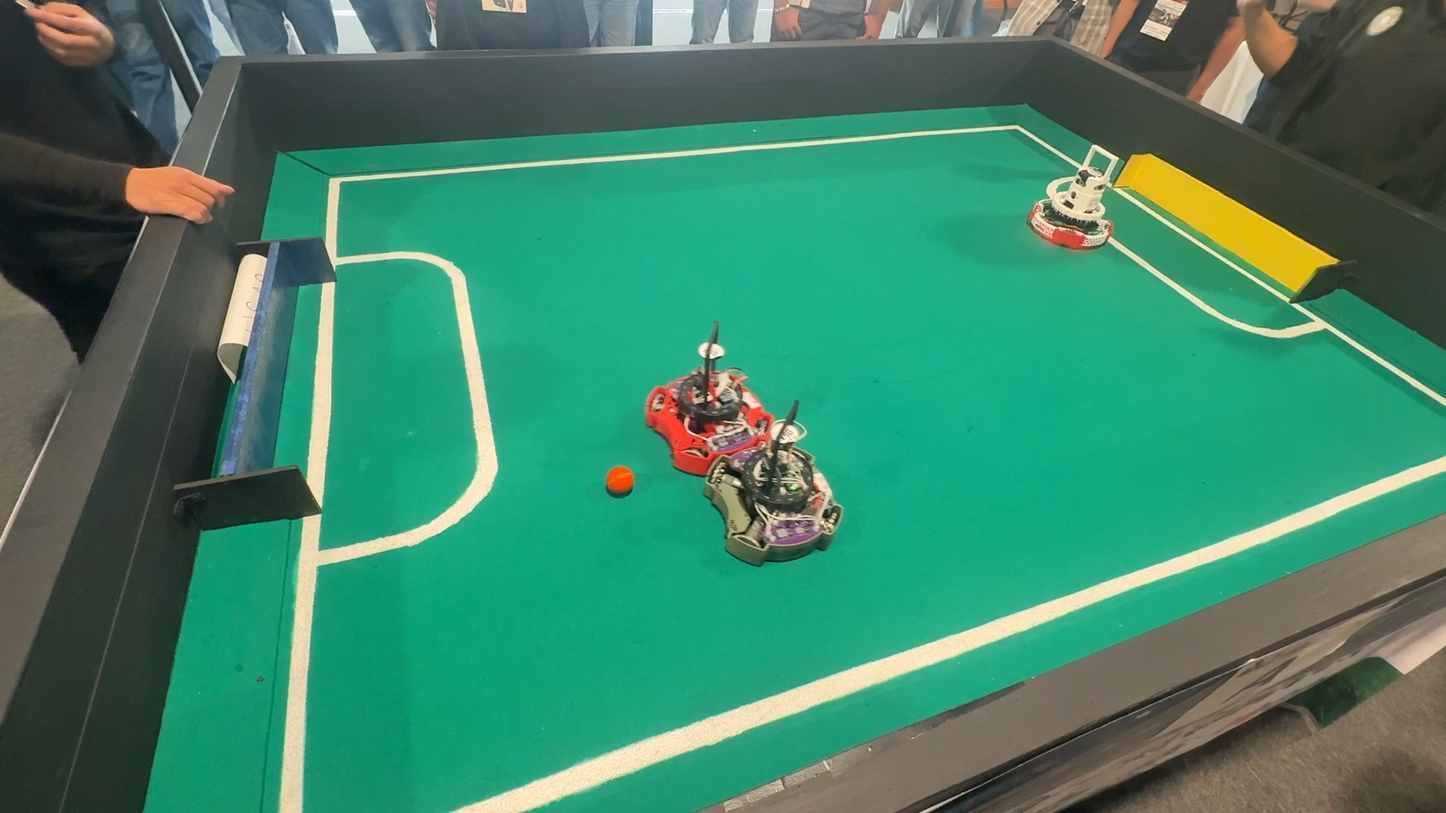Robot: (700, 401, 848, 581), (649, 319, 773, 457), (1022, 138, 1150, 260)
pelota: (604, 466, 641, 503)
